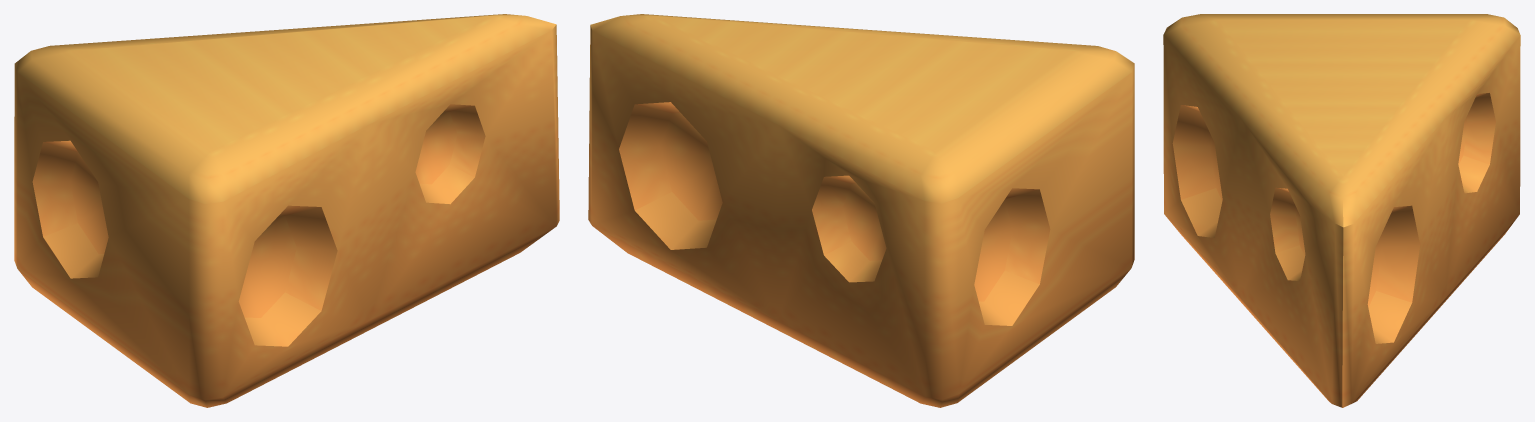
The model's file is food_ingredient_cheese.gltf.
3 renders of one model, left to right at view 1: azimuth 30°, elevation 25°; view 2: azimuth 150°, elevation 25°; view 3: azimuth 270°, elevation 25°, orthographic. The views are drawn at different scales.
Visible parts, largest first — view 1: food_ingredient_cheese; view 2: food_ingredient_cheese; view 3: food_ingredient_cheese.
Boxes of the visible parts, x1,y1,x2,y2 form: food_ingredient_cheese: [14, 14, 559, 407]; food_ingredient_cheese: [588, 14, 1134, 407]; food_ingredient_cheese: [1163, 14, 1520, 407].
Bounding box in the file's own units: 0.9766 × 0.5 × 0.722.
Materials: 1 (1 with a texture image).
